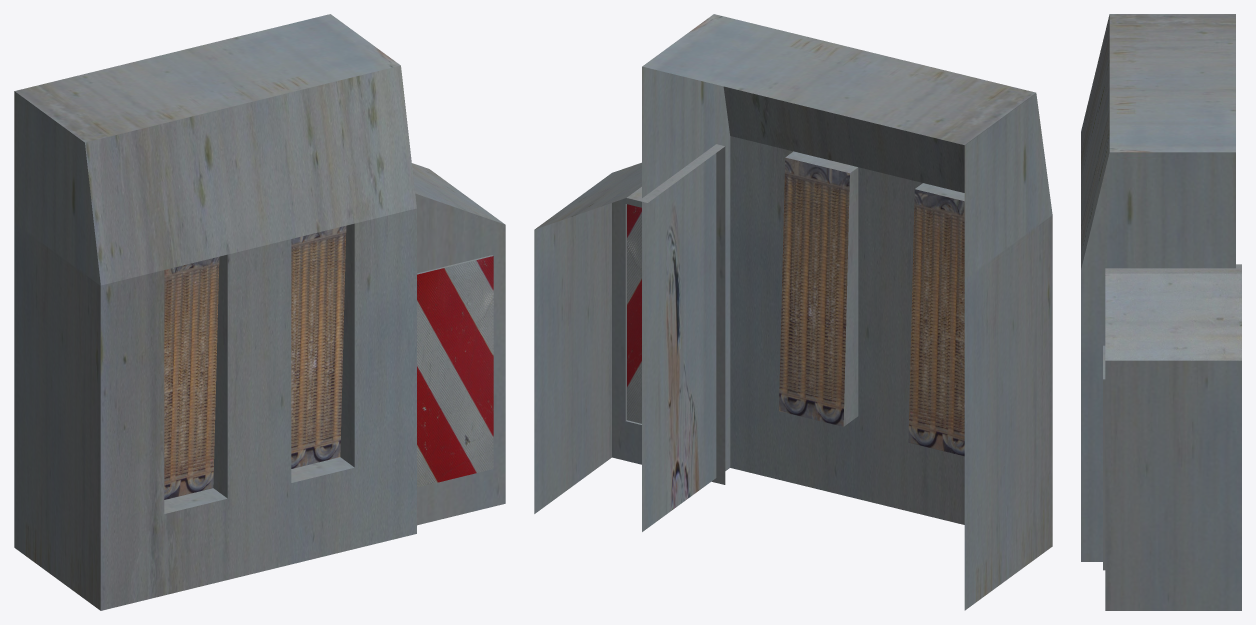
The model's file is station.fbx.
3 renders of one model, left to right at view 1: azimuth 30°, elevation 25°; view 2: azimuth 150°, elevation 25°; view 3: azimuth 270°, elevation 25°, orthographic. The views are drawn at different scales.
Parts seen in each view (by area): view 1: station; view 2: station; view 3: station.
Part boxes in pixels (<box>): station: <box>14,14,505,610</box>; station: <box>534,14,1052,610</box>; station: <box>1081,14,1241,610</box>.
Bounding box in the file's own units: 489 × 516 × 182.
